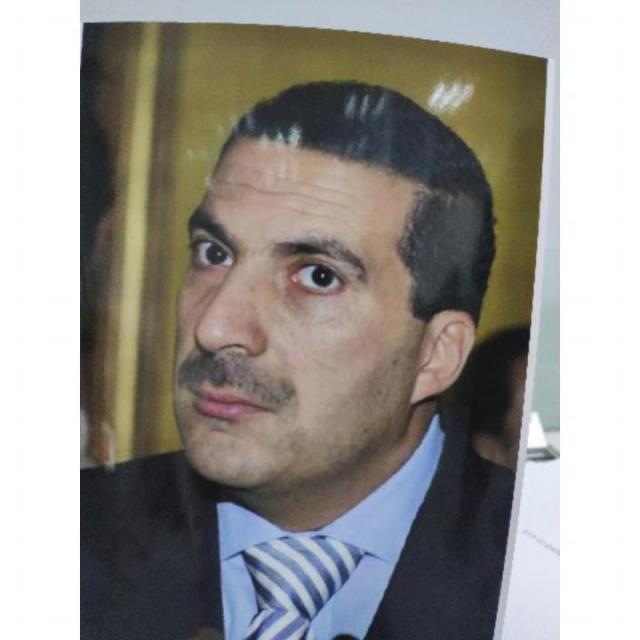photo: (80, 17, 541, 638)
